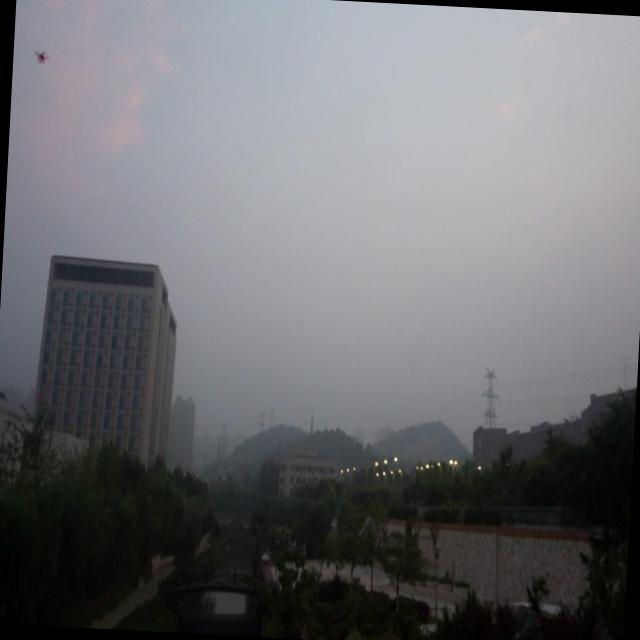drone: (30, 46, 52, 70)
